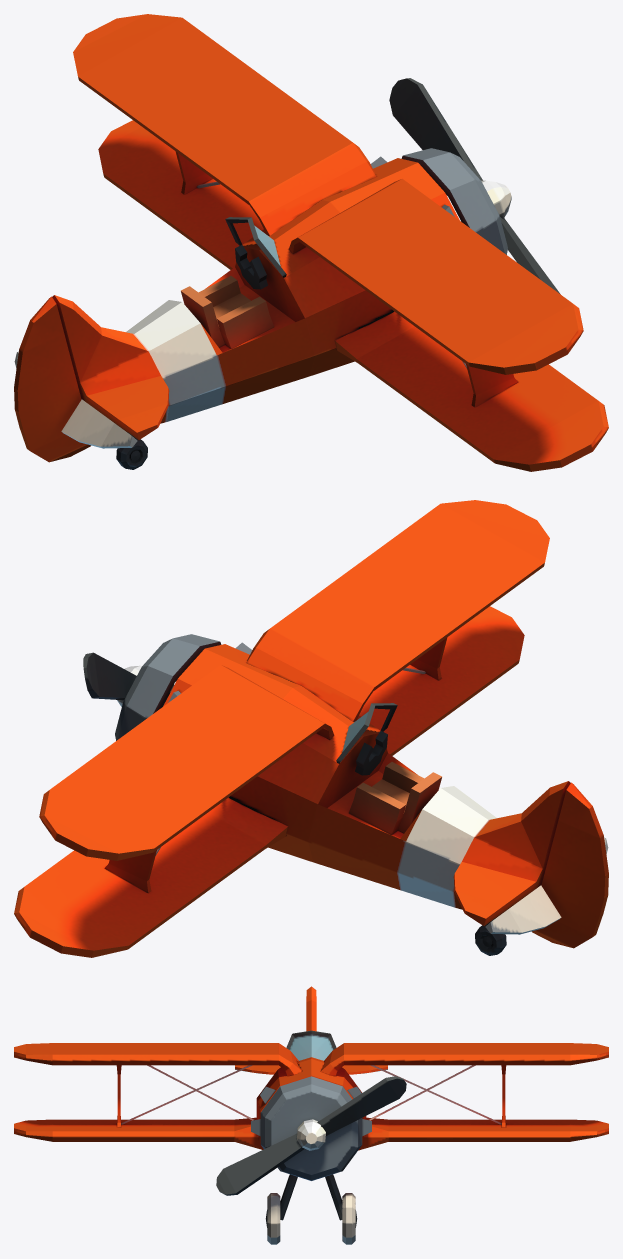
The model's file is Airplane.glb.
3 renders of one model, top to bottom at view 1: azimuth 30°, elevation 25°; view 2: azimuth 150°, elevation 25°; view 3: azimuth 270°, elevation 25°, orthographic. The views are drawn at different scales.
Visible parts, largest first — view 1: PUSHILIN_Plane_Circle.000, PUSHILIN_Plane_Circle.001; view 2: PUSHILIN_Plane_Circle.000, PUSHILIN_Plane_Circle.001; view 3: PUSHILIN_Plane_Circle.000, PUSHILIN_Plane_Circle.001.
Part boxes in pixels (x1=…): PUSHILIN_Plane_Circle.000: x1=14, y1=14, x2=608, y2=471; PUSHILIN_Plane_Circle.001: x1=389, y1=78, x2=560, y2=294; PUSHILIN_Plane_Circle.000: x1=14, y1=500, x2=608, y2=957; PUSHILIN_Plane_Circle.001: x1=83, y1=652, x2=174, y2=707; PUSHILIN_Plane_Circle.000: x1=14, y1=986, x2=608, y2=1244; PUSHILIN_Plane_Circle.001: x1=216, y1=1076, x2=406, y2=1195.
Size of the model in its own units: 2.43 by 1.21 by 3.78.
1 material, 1 textured.
